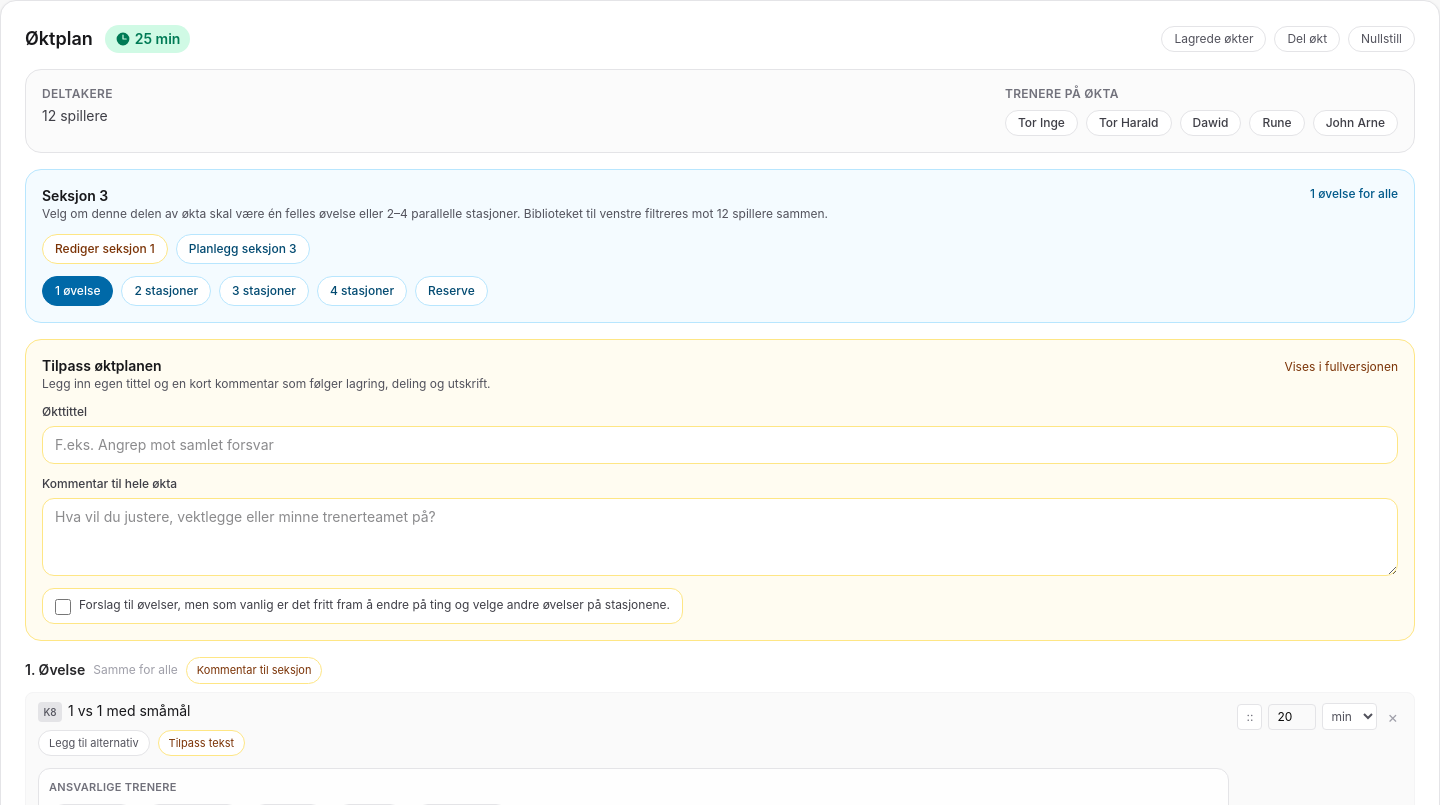
Test: SessionTimeline sharing › shows an error when no copy method is available
Click the button "Del økt" at (1307, 39), box [1274,26,1340,52]
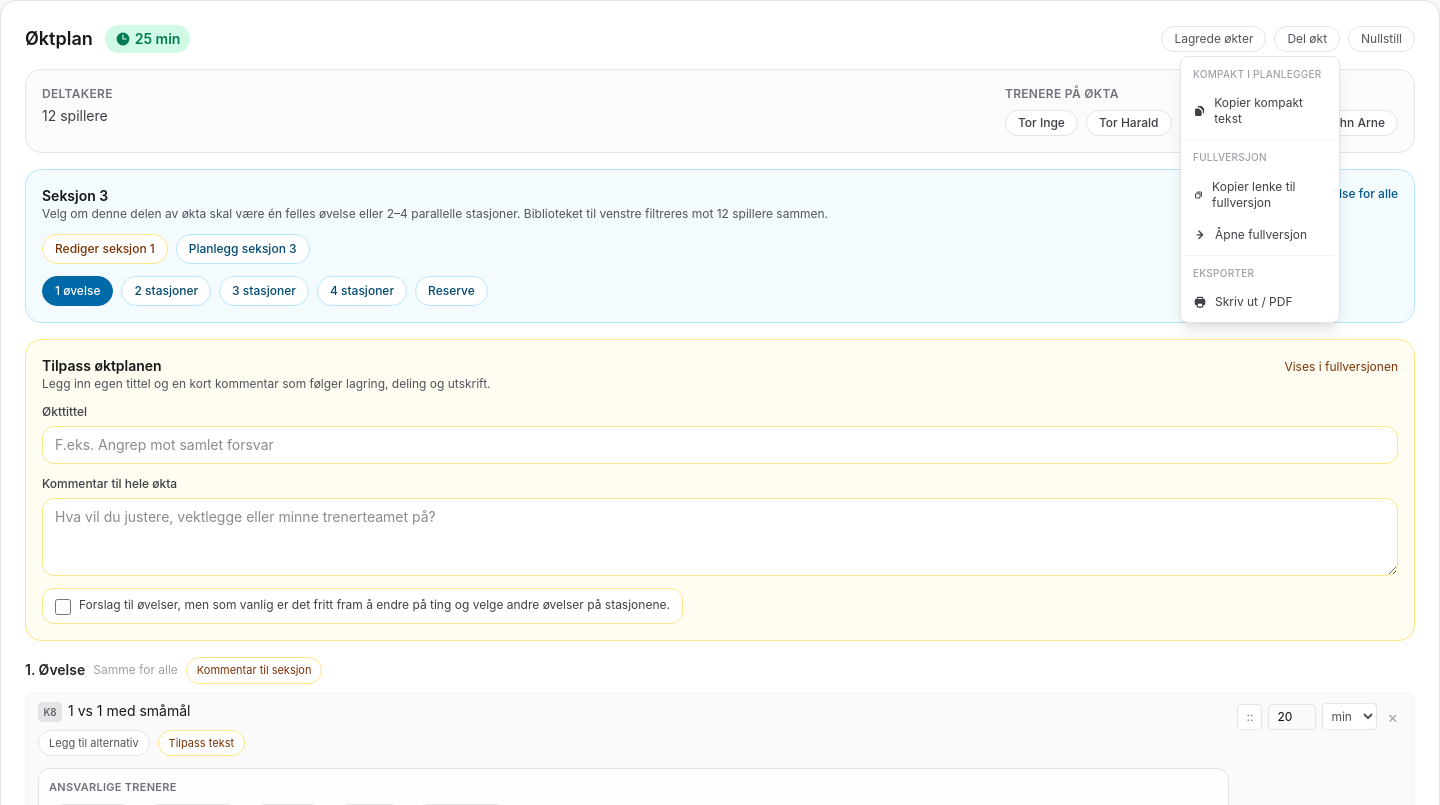
Click the button "Kopier kompakt tekst" at (1260, 111), box [1181,87,1339,135]
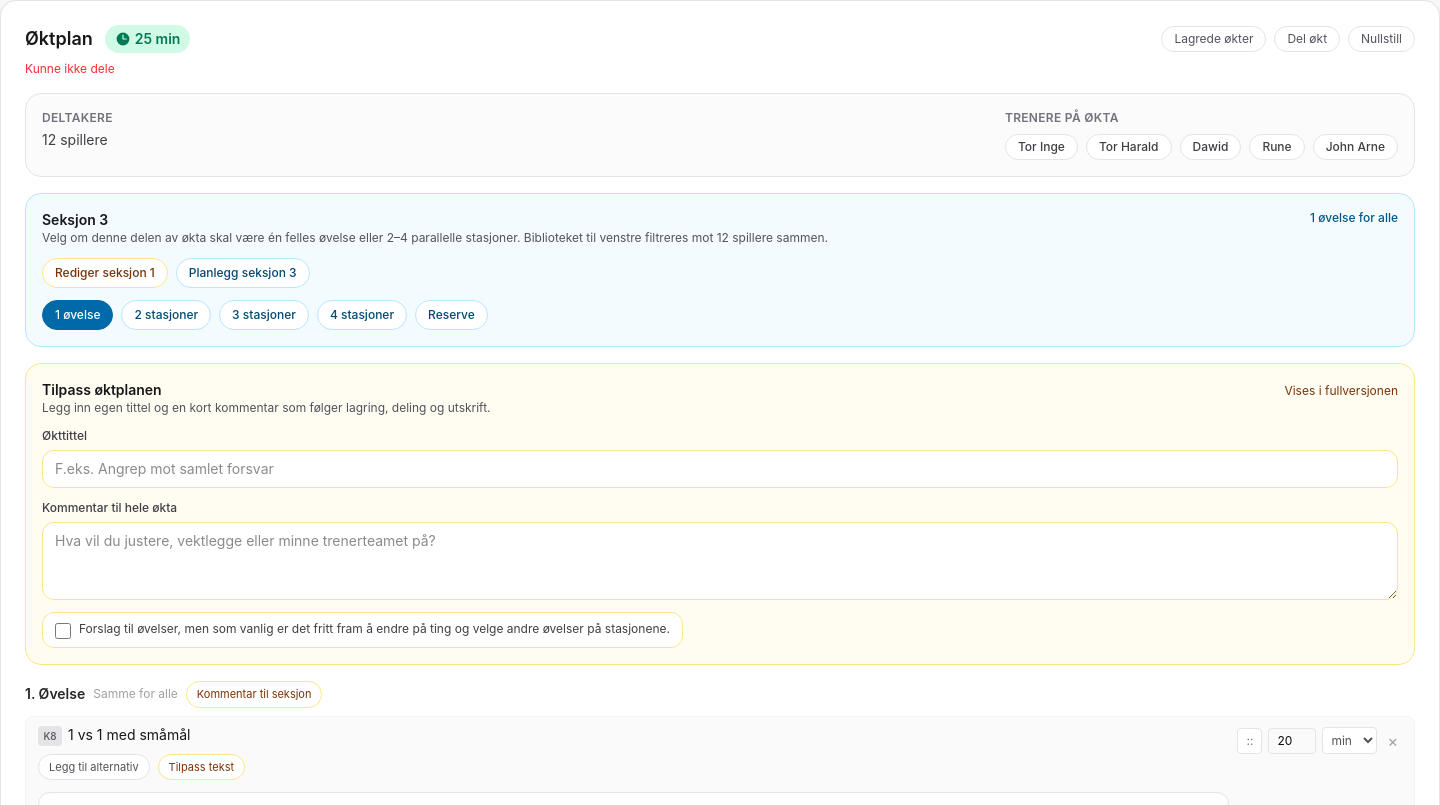
Expected: the text "Kunne ikke dele" is shown, [25,61,115,76]
